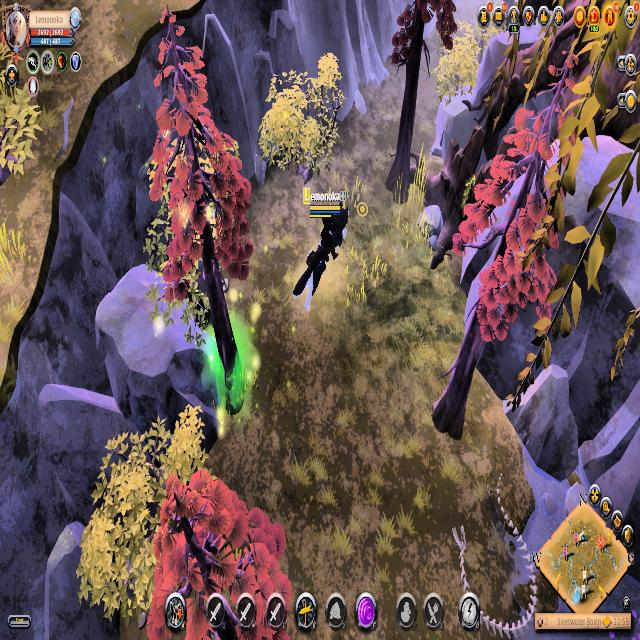wood tier 5: (145, 3, 256, 302)
